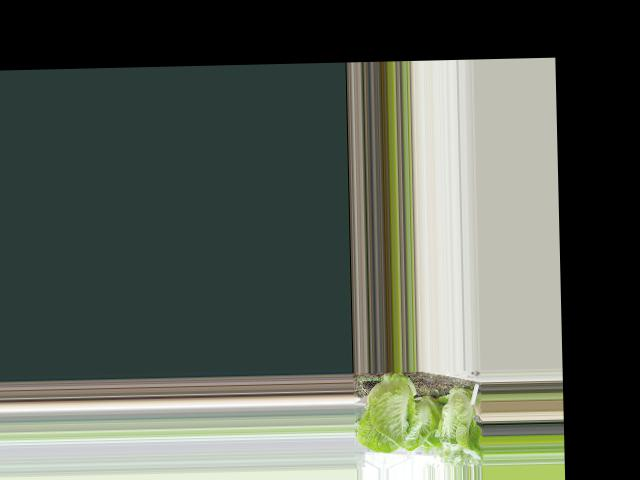lettuce: (433, 377, 477, 459)
